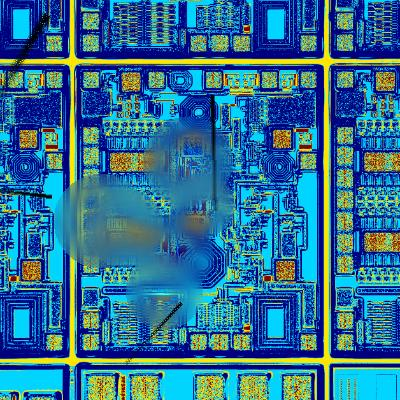Die: (74, 63, 324, 359)
Pad 1: (111, 153, 132, 171), (138, 153, 159, 171), (111, 233, 132, 251), (139, 233, 160, 251), (276, 261, 295, 280), (185, 217, 204, 236), (273, 130, 291, 148), (122, 73, 140, 91)
Pad 2: (83, 147, 99, 165), (83, 169, 99, 187), (83, 255, 99, 273), (83, 191, 99, 209), (83, 127, 99, 144), (211, 334, 228, 350), (83, 213, 99, 230), (83, 235, 99, 252), (206, 72, 222, 88), (83, 72, 99, 88), (191, 334, 207, 350), (83, 334, 99, 350), (234, 334, 250, 350), (262, 72, 277, 88), (301, 72, 316, 88), (83, 313, 99, 328), (149, 72, 164, 88), (301, 154, 316, 169), (301, 335, 316, 350)
